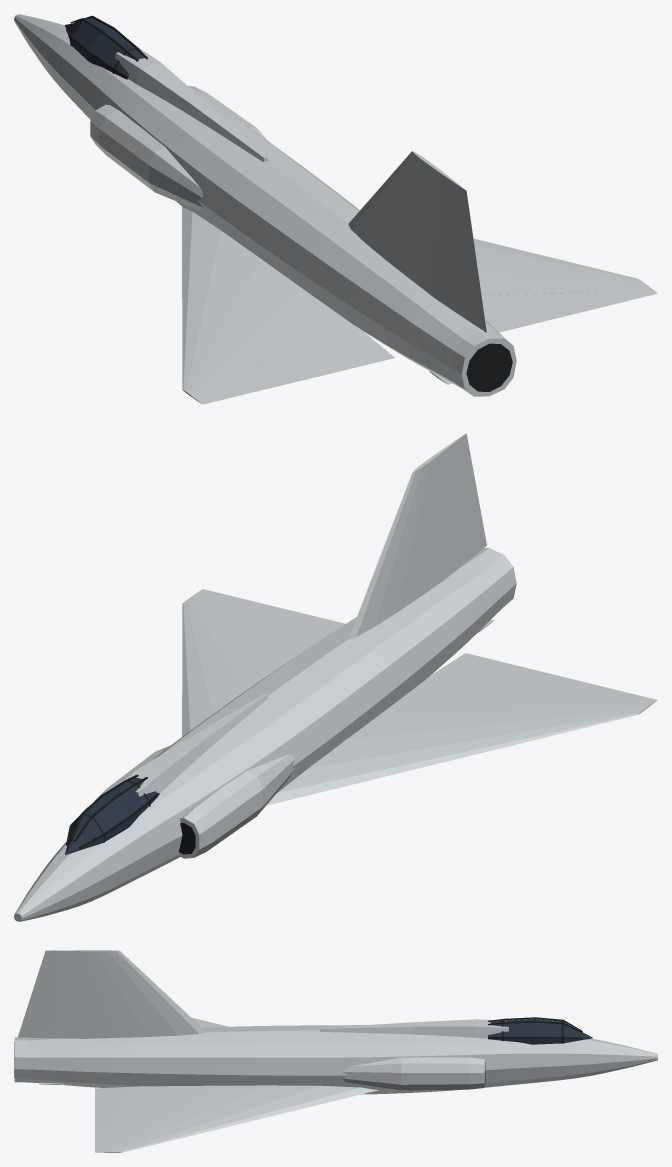
The picture shows the model from 3 angles, top to bottom: view 1: azimuth 30°, elevation 25°; view 2: azimuth 150°, elevation 25°; view 3: azimuth 270°, elevation 25°; orthographic projection. The views are drawn at different scales.
Parts seen in each view (by area): view 1: Fuselage, Wing L, Vertical Fin, Wing R, Intake Cheeks, Rudder, Flap L, Dorsal Fairing, Flap R, Cockpit Glass, Tailpipe, Aileron R (+2 smaller); view 2: Fuselage, Wing L, Wing R, Vertical Fin, Intake Cheeks, Rudder, Flap L, Dorsal Fairing, Cockpit Glass, Flap R, Canopy Frame, Aileron L (+1 smaller); view 3: Fuselage, Wing R, Vertical Fin, Rudder, Intake Cheeks, Dorsal Fairing, Cockpit Glass, Flap R, Canopy Frame, Aileron R.
Boxes of the visible parts, x1=… form: Fuselage: x1=14, y1=14, x2=516, y2=396; Wing L: x1=182, y1=206, x2=394, y2=404; Vertical Fin: x1=348, y1=151, x2=447, y2=295; Wing R: x1=473, y1=238, x2=657, y2=314; Intake Cheeks: x1=90, y1=86, x2=267, y2=211; Rudder: x1=432, y1=176, x2=486, y2=332; Flap L: x1=264, y1=321, x2=383, y2=383; Dorsal Fairing: x1=115, y1=47, x2=267, y2=161; Flap R: x1=482, y1=294, x2=571, y2=332; Cockpit Glass: x1=65, y1=18, x2=144, y2=79; Tailpipe: x1=466, y1=343, x2=512, y2=391; Aileron R: x1=563, y1=290, x2=647, y2=311; Fuselage: x1=14, y1=548, x2=516, y2=921; Wing L: x1=266, y1=653, x2=657, y2=805; Wing R: x1=182, y1=589, x2=306, y2=736; Vertical Fin: x1=348, y1=447, x2=448, y2=639; Intake Cheeks: x1=95, y1=745, x2=294, y2=858; Rudder: x1=439, y1=433, x2=486, y2=583; Flap L: x1=429, y1=656, x2=570, y2=695; Dorsal Fairing: x1=122, y1=694, x2=268, y2=796; Cockpit Glass: x1=65, y1=777, x2=158, y2=854; Flap R: x1=264, y1=610, x2=345, y2=649; Canopy Frame: x1=66, y1=774, x2=159, y2=848; Aileron L: x1=563, y1=682, x2=647, y2=702; Fuselage: x1=14, y1=1025, x2=657, y2=1094; Wing R: x1=95, y1=1085, x2=378, y2=1152; Vertical Fin: x1=72, y1=950, x2=206, y2=1038; Rudder: x1=17, y1=950, x2=87, y2=1038; Intake Cheeks: x1=342, y1=1057, x2=484, y2=1090; Dorsal Fairing: x1=319, y1=1019, x2=508, y2=1038; Cockpit Glass: x1=488, y1=1018, x2=592, y2=1044; Flap R: x1=95, y1=1089, x2=160, y2=1123; Canopy Frame: x1=488, y1=1017, x2=582, y2=1043; Aileron R: x1=95, y1=1127, x2=124, y2=1149.
Bounding box in the file's own units: 11.6 × 4.95 × 20.82.
